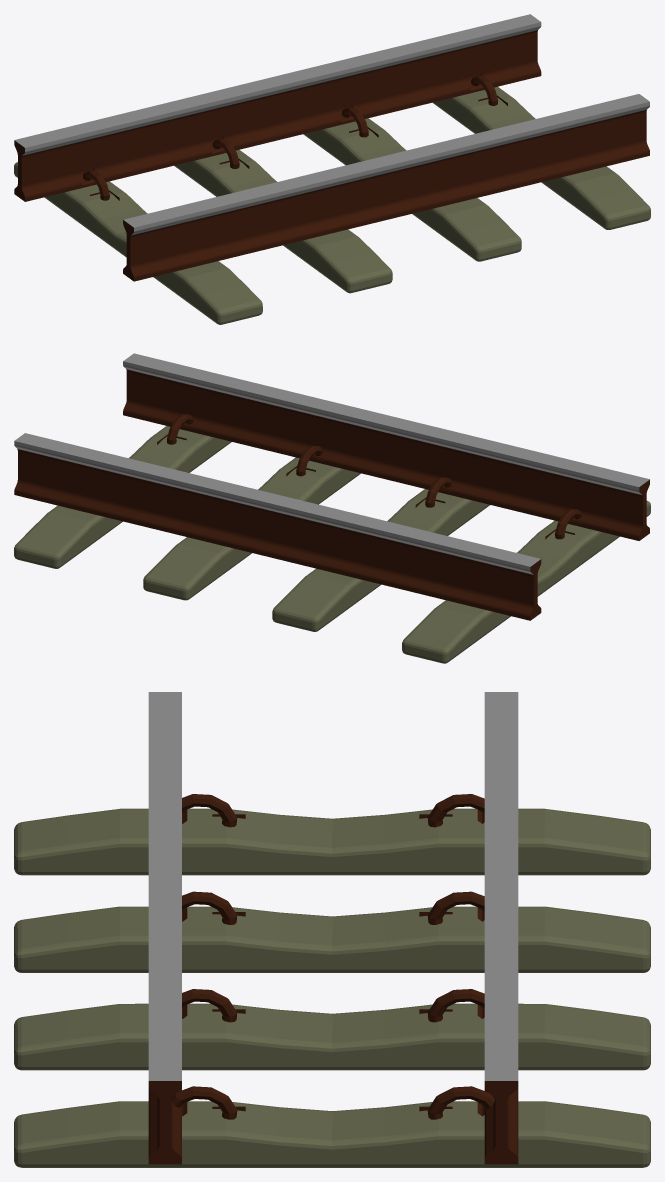
The model's file is ray_tas_duz (1).fbx.
3 views of the same model, one above another, from view 1: azimuth 30°, elevation 25°; view 2: azimuth 150°, elevation 25°; view 3: azimuth 270°, elevation 25° (orthographic). The views are drawn at different scales.
Parts seen in each view (by area): view 1: Cube.001, Cube.002, Cube.006, Cube.003, Cube.004; view 2: Cube.002, Cube.001, Cube.006, Cube.003, Cube.004; view 3: Cube.006, Cube.003, Cube.004, Cube.002, Cube.001.
Boxes of the visible parts, left/top/right/bottom form: Cube.001: left=123, top=94, right=649, bottom=281; Cube.002: left=14, top=14, right=541, bottom=201; Cube.006: left=303, top=73, right=650, bottom=261; Cube.003: left=14, top=162, right=262, bottom=324; Cube.004: left=174, top=136, right=392, bottom=293; Cube.002: left=14, top=433, right=541, bottom=620; Cube.001: left=123, top=353, right=649, bottom=540; Cube.006: left=14, top=413, right=360, bottom=600; Cube.003: left=402, top=501, right=650, bottom=663; Cube.004: left=272, top=476, right=489, bottom=631; Cube.006: left=14, top=989, right=650, bottom=1167; Cube.003: left=14, top=794, right=650, bottom=875; Cube.004: left=14, top=891, right=650, bottom=972; Cube.002: left=484, top=692, right=518, bottom=1164; Cube.001: left=148, top=692, right=181, bottom=1164.
Size of the model in its own units: 714 by 103 by 494.
